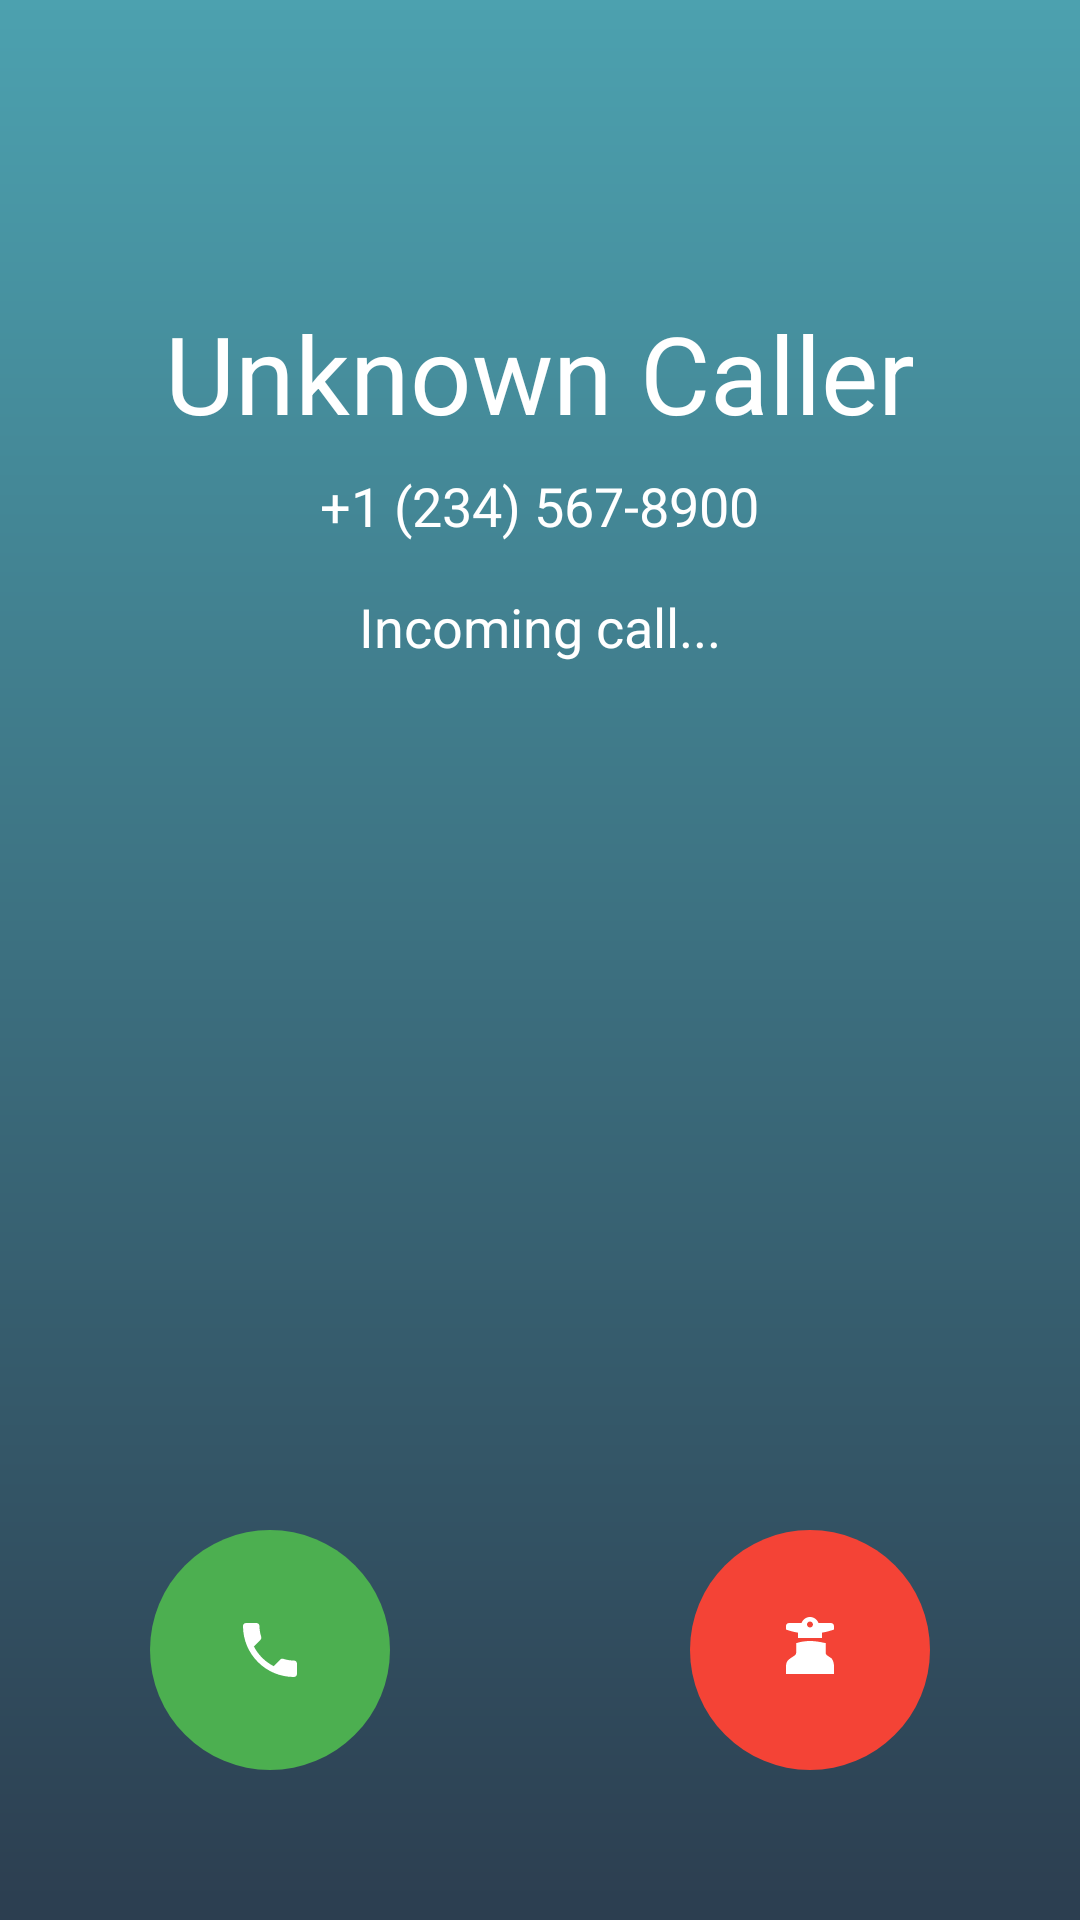

Icon click points for this 1080x1920 phone screenshot, format (x,y):
accept call: (270,1650)
